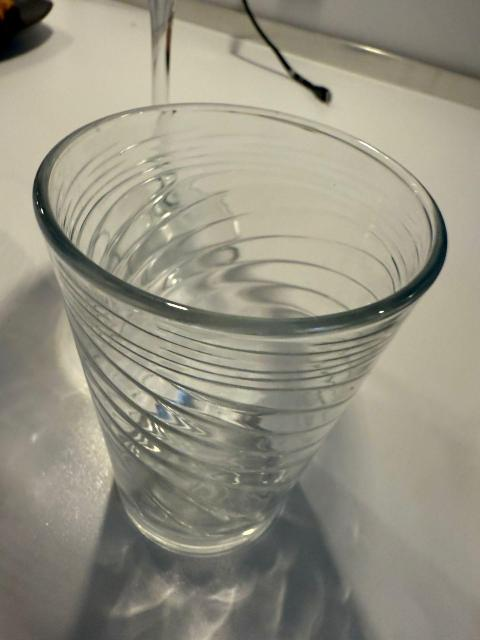Cam: (29, 97, 450, 565)
